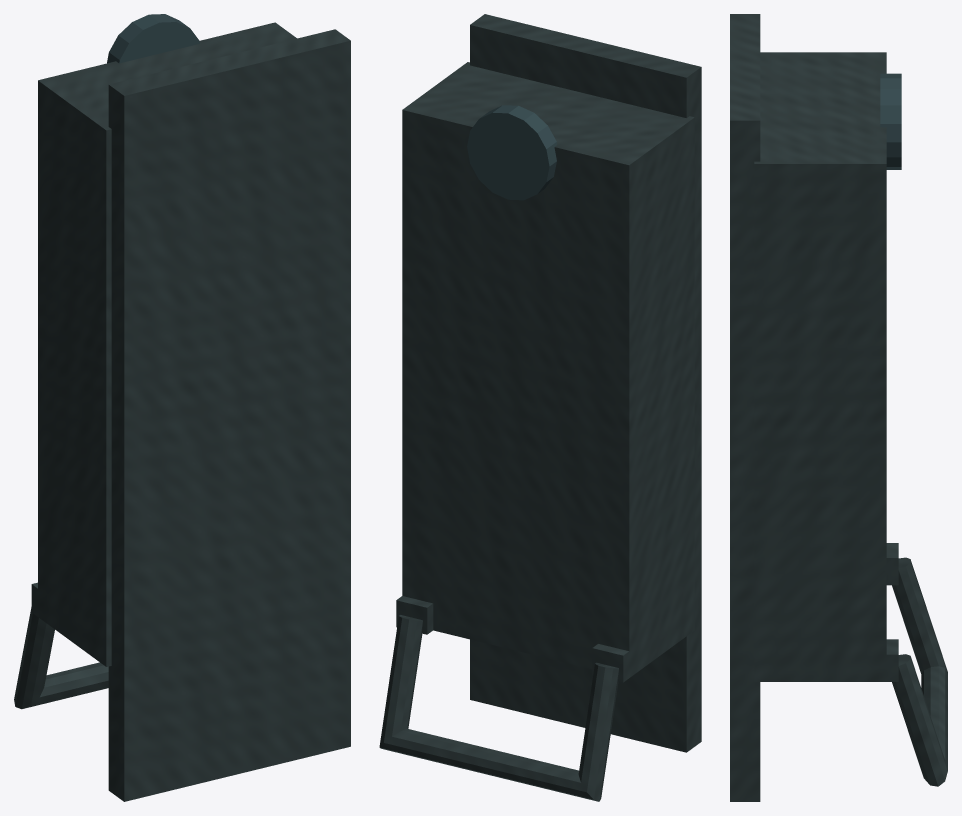
3 renders of one model, left to right at view 1: azimuth 30°, elevation 25°; view 2: azimuth 150°, elevation 25°; view 3: azimuth 270°, elevation 25°, orthographic. The views are drawn at different scales.
Visible parts, largest first — view 1: B024-10_mount_iron, B024-10_housing_iron, B024-10_moving_foldrail_iron, B024-10_frame_glass; view 2: B024-10_housing_iron, B024-10_mount_iron, B024-10_moving_foldrail_iron, B024-10_frame_glass; view 3: B024-10_housing_iron, B024-10_mount_iron, B024-10_moving_foldrail_iron, B024-10_frame_glass.
Boxes of the visible parts, box(x1,y1,x2,y2) form: B024-10_mount_iron: box(31, 29, 350, 801); B024-10_housing_iron: box(38, 22, 296, 666); B024-10_moving_foldrail_iron: box(14, 607, 108, 709); B024-10_frame_glass: box(107, 14, 199, 63); B024-10_housing_iron: box(402, 62, 694, 669); B024-10_mount_iron: box(396, 14, 701, 752); B024-10_moving_foldrail_iron: box(379, 615, 618, 801); B024-10_frame_glass: box(467, 105, 557, 200); B024-10_housing_iron: box(754, 52, 886, 681); B024-10_mount_iron: box(730, 14, 898, 801); B024-10_moving_foldrail_iron: box(892, 557, 947, 786); B024-10_frame_glass: box(880, 73, 901, 169).
Bounding box in the file's own units: 0.44 × 1.25 × 0.362.
Materials: 3 (3 with a texture image).
